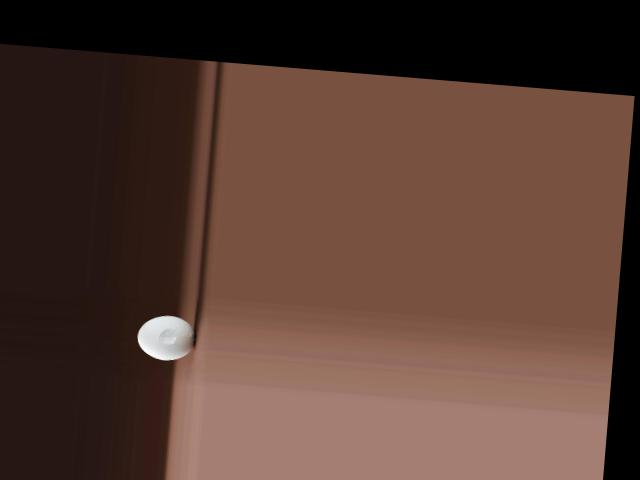egg: (135, 313, 196, 362)
